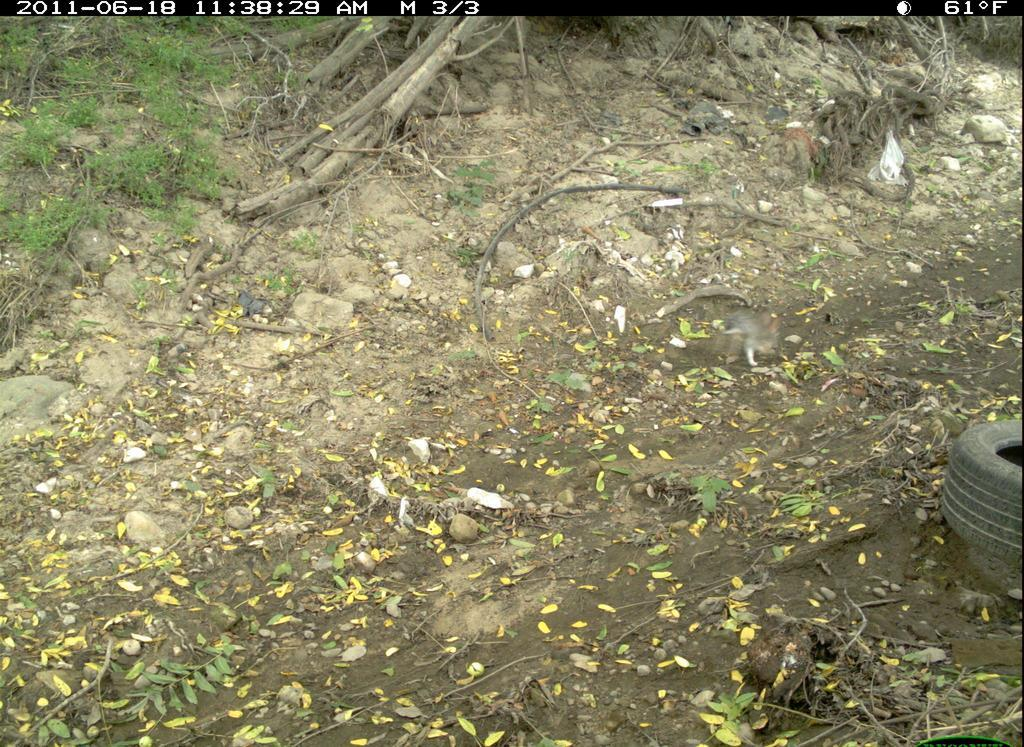rabbit: (708, 300, 798, 379)
